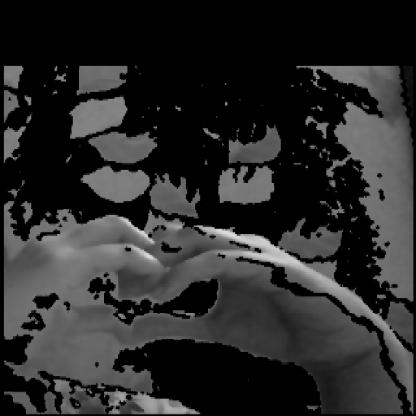heart: (22, 208, 334, 371)
